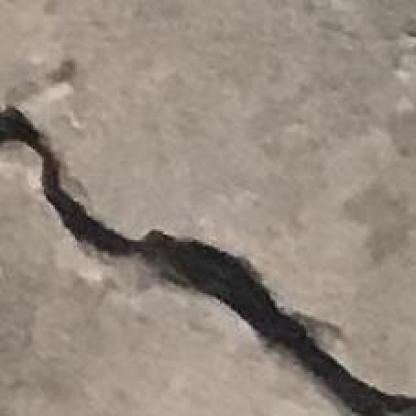SurfaceCrack: (0, 90, 408, 416)
